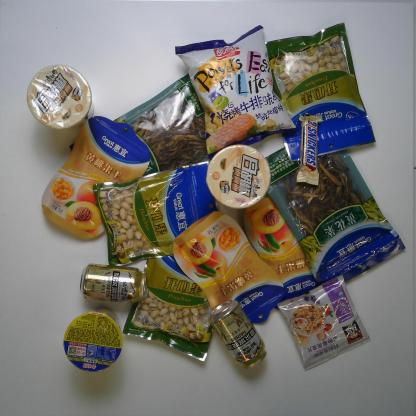Alcohol: (210, 300, 267, 370), (80, 264, 150, 302)
Chocolate: (293, 113, 322, 187)
Dried Food: (262, 146, 407, 288), (111, 73, 218, 180)
Dried Fruit: (263, 22, 377, 162), (91, 161, 228, 267), (41, 113, 152, 238), (172, 211, 283, 325), (122, 252, 213, 362), (243, 196, 325, 311)
Instant Drink: (276, 275, 371, 372)
Instant Noodles: (25, 64, 96, 130), (206, 144, 273, 210), (64, 309, 124, 373)
Puffed Food: (174, 24, 298, 156)
